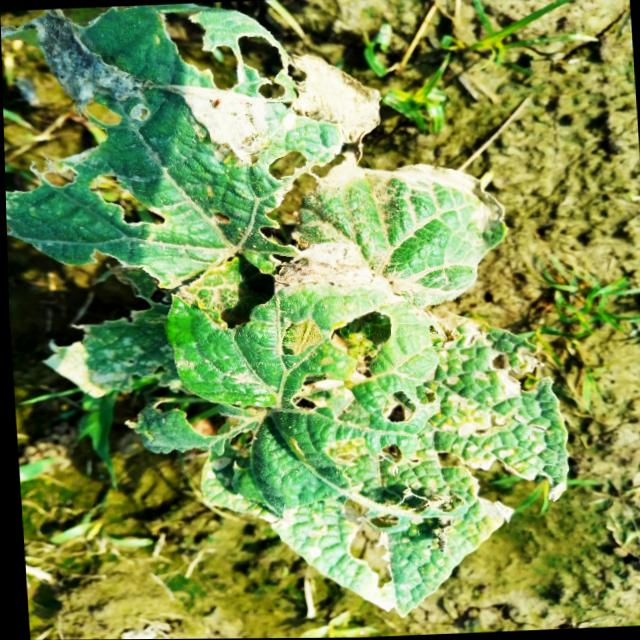Anthracnose: (158, 4, 308, 103), (288, 307, 396, 431), (37, 158, 173, 236), (380, 380, 438, 428), (277, 314, 324, 361), (82, 94, 125, 129), (267, 146, 308, 182), (207, 203, 232, 231)
